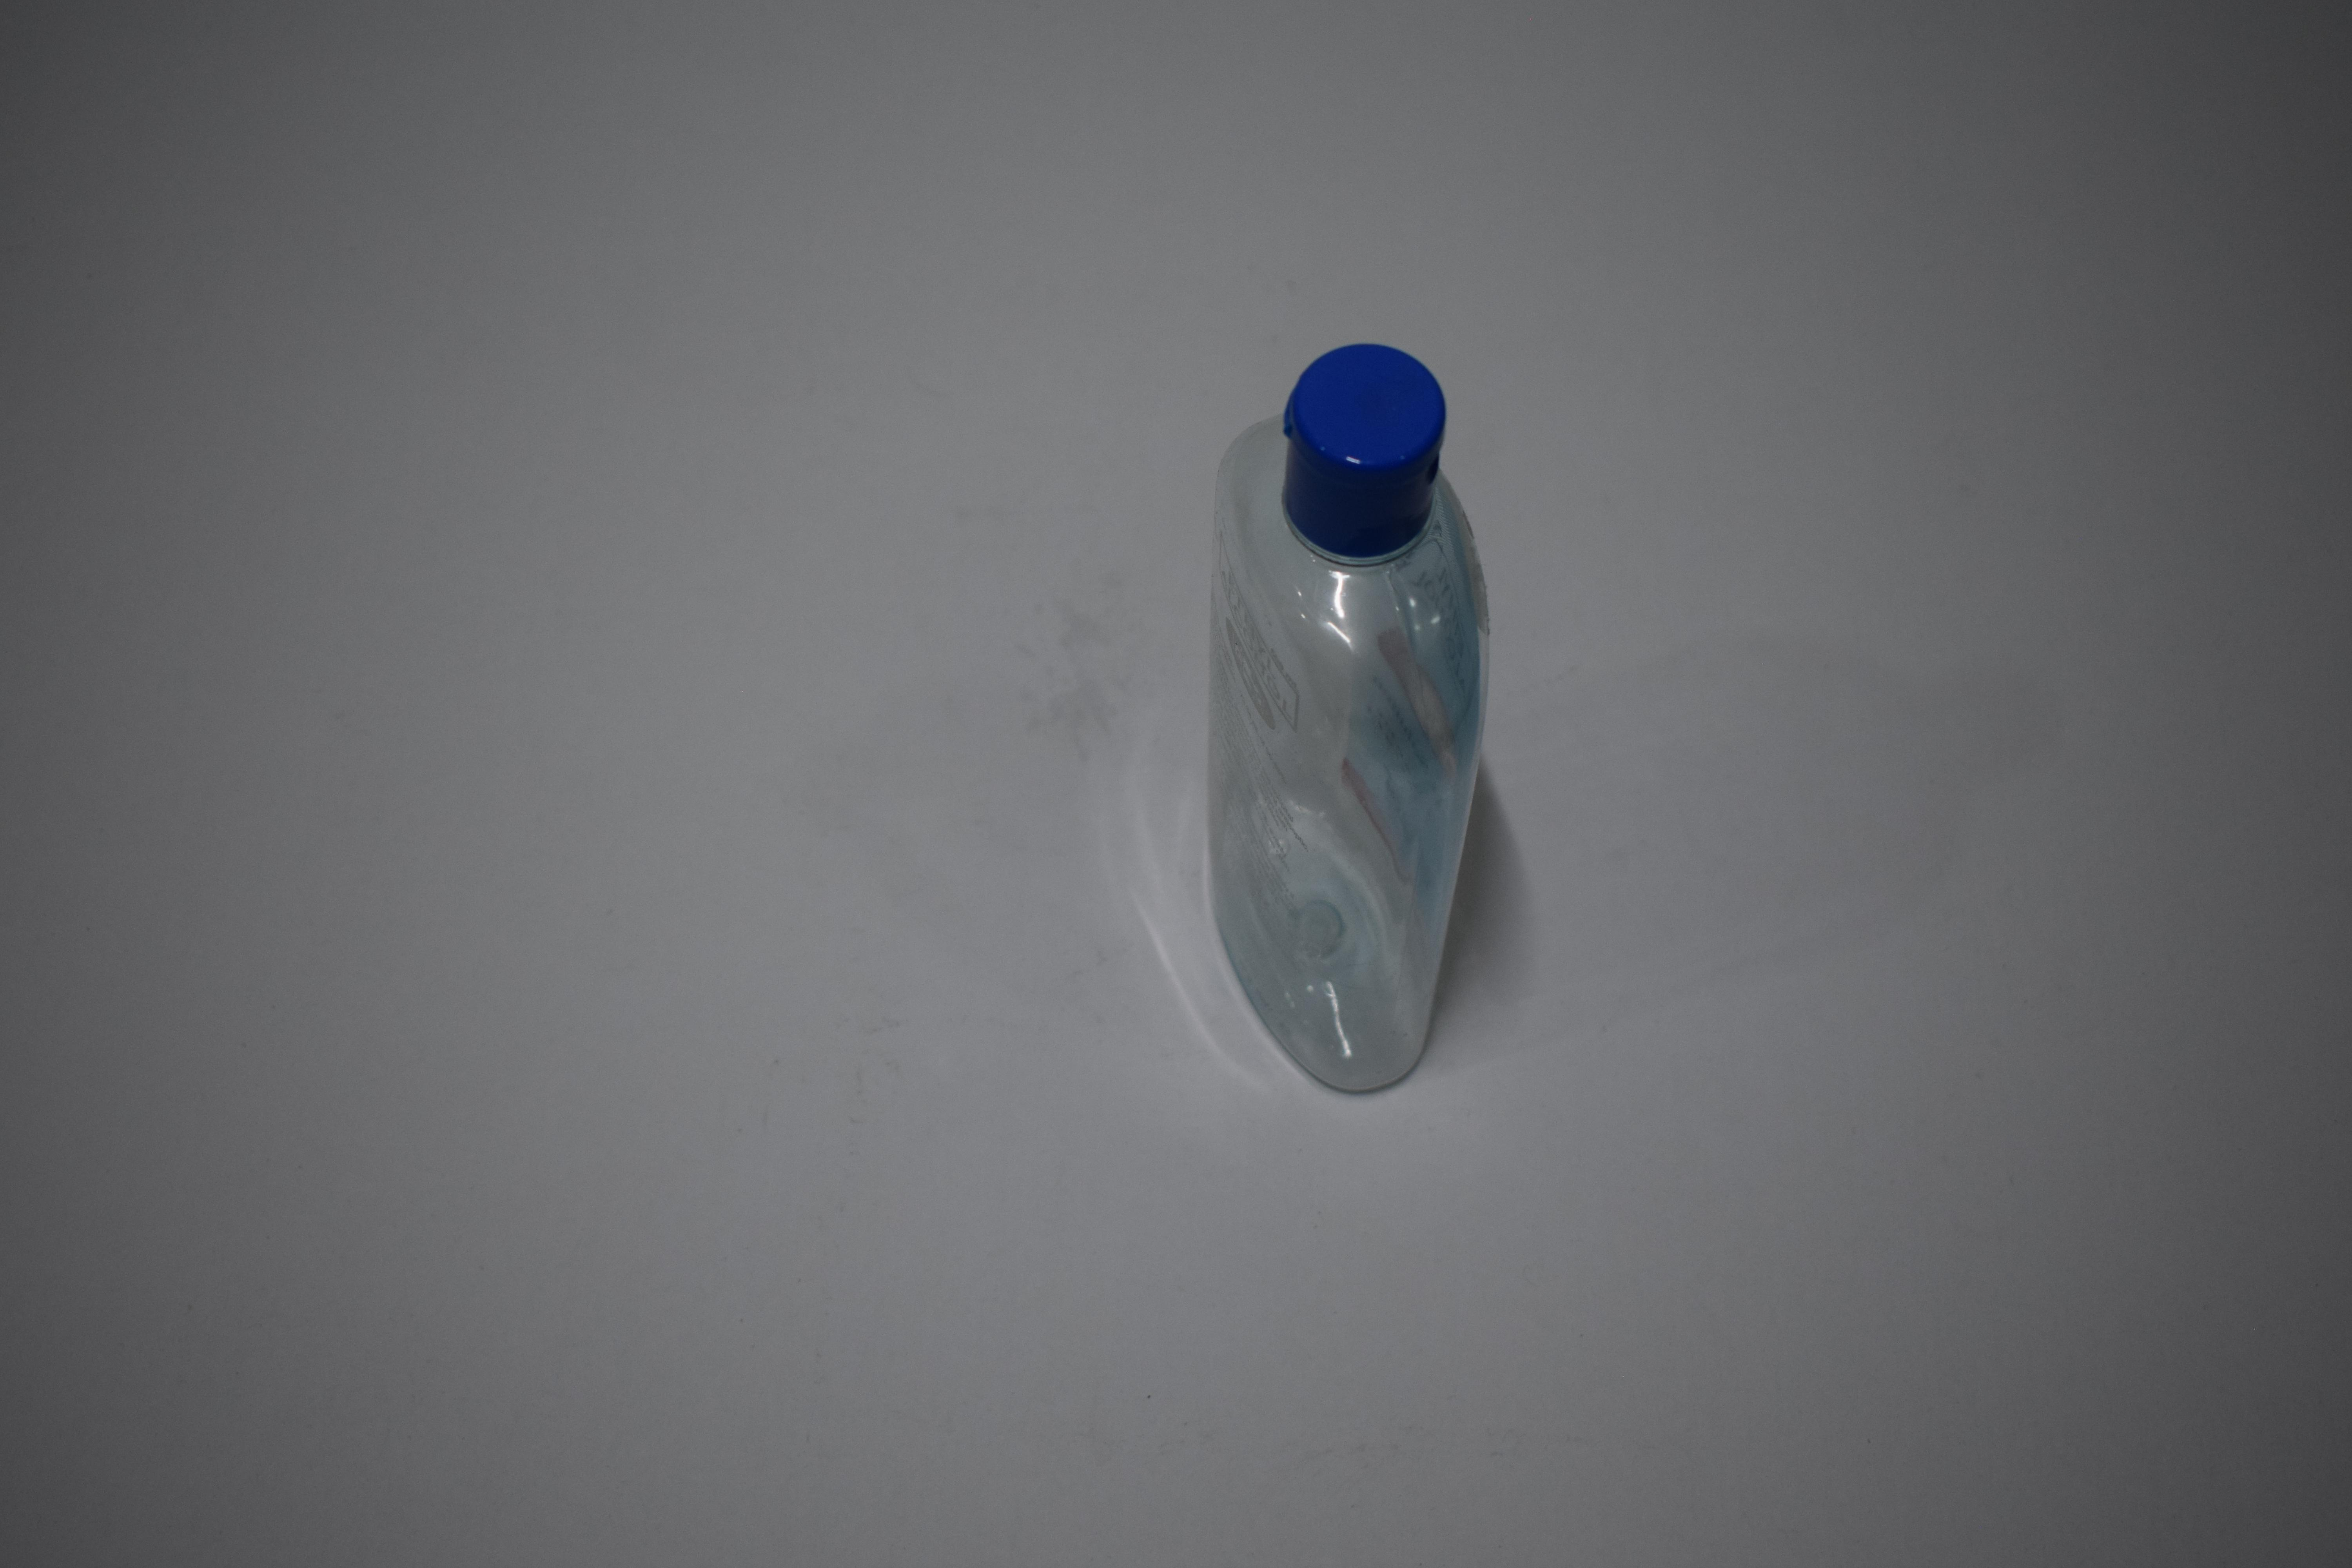bottle: (14, 254, 324, 1022)
